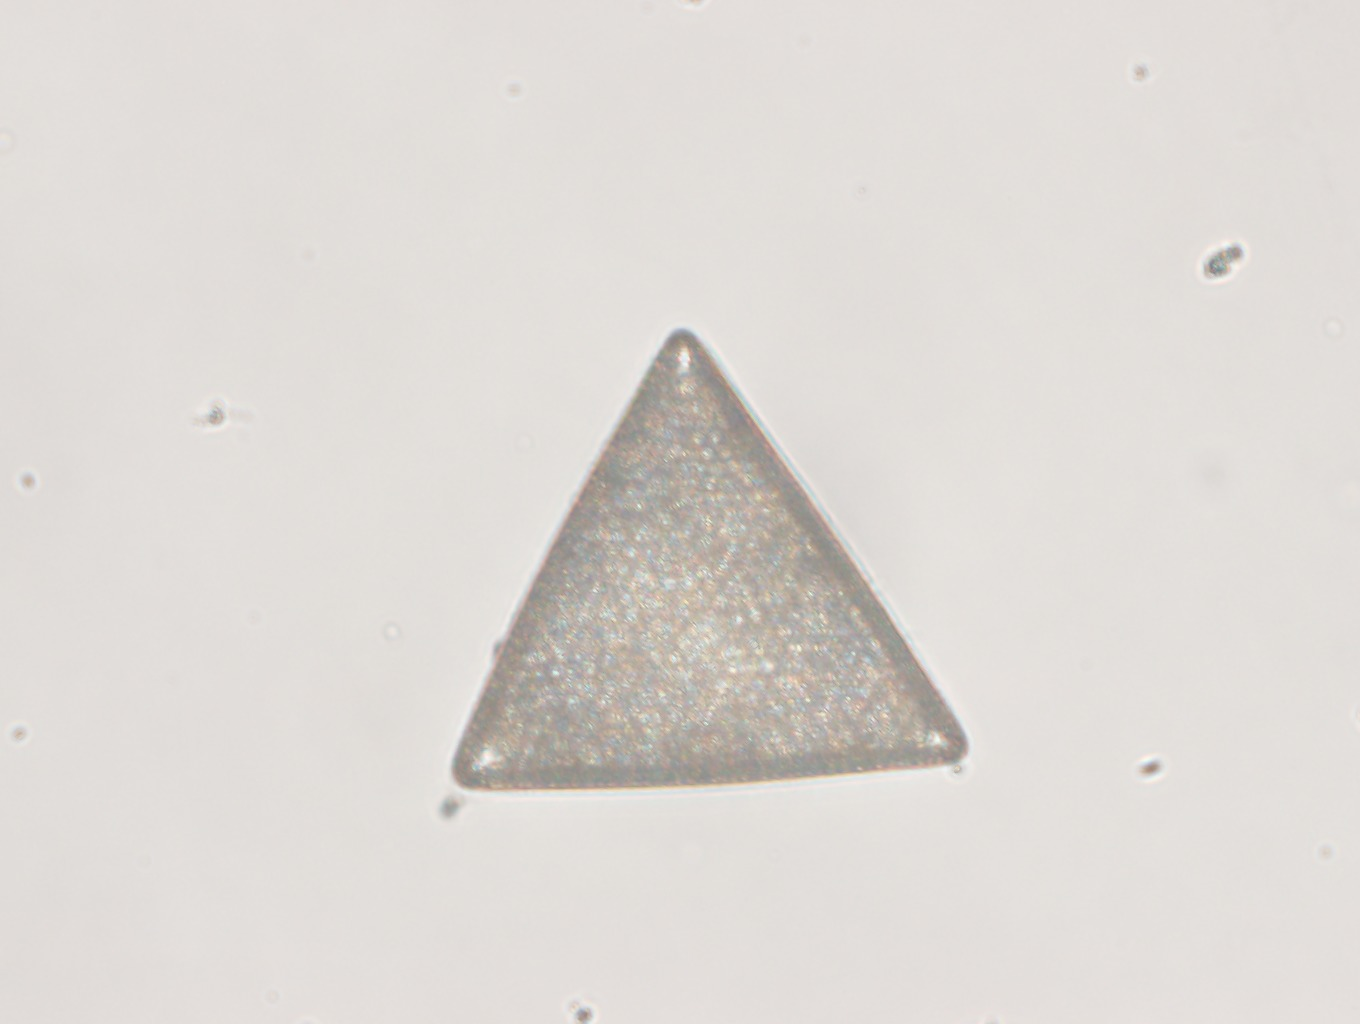coscinodiscus flank: (433, 311, 997, 812)
